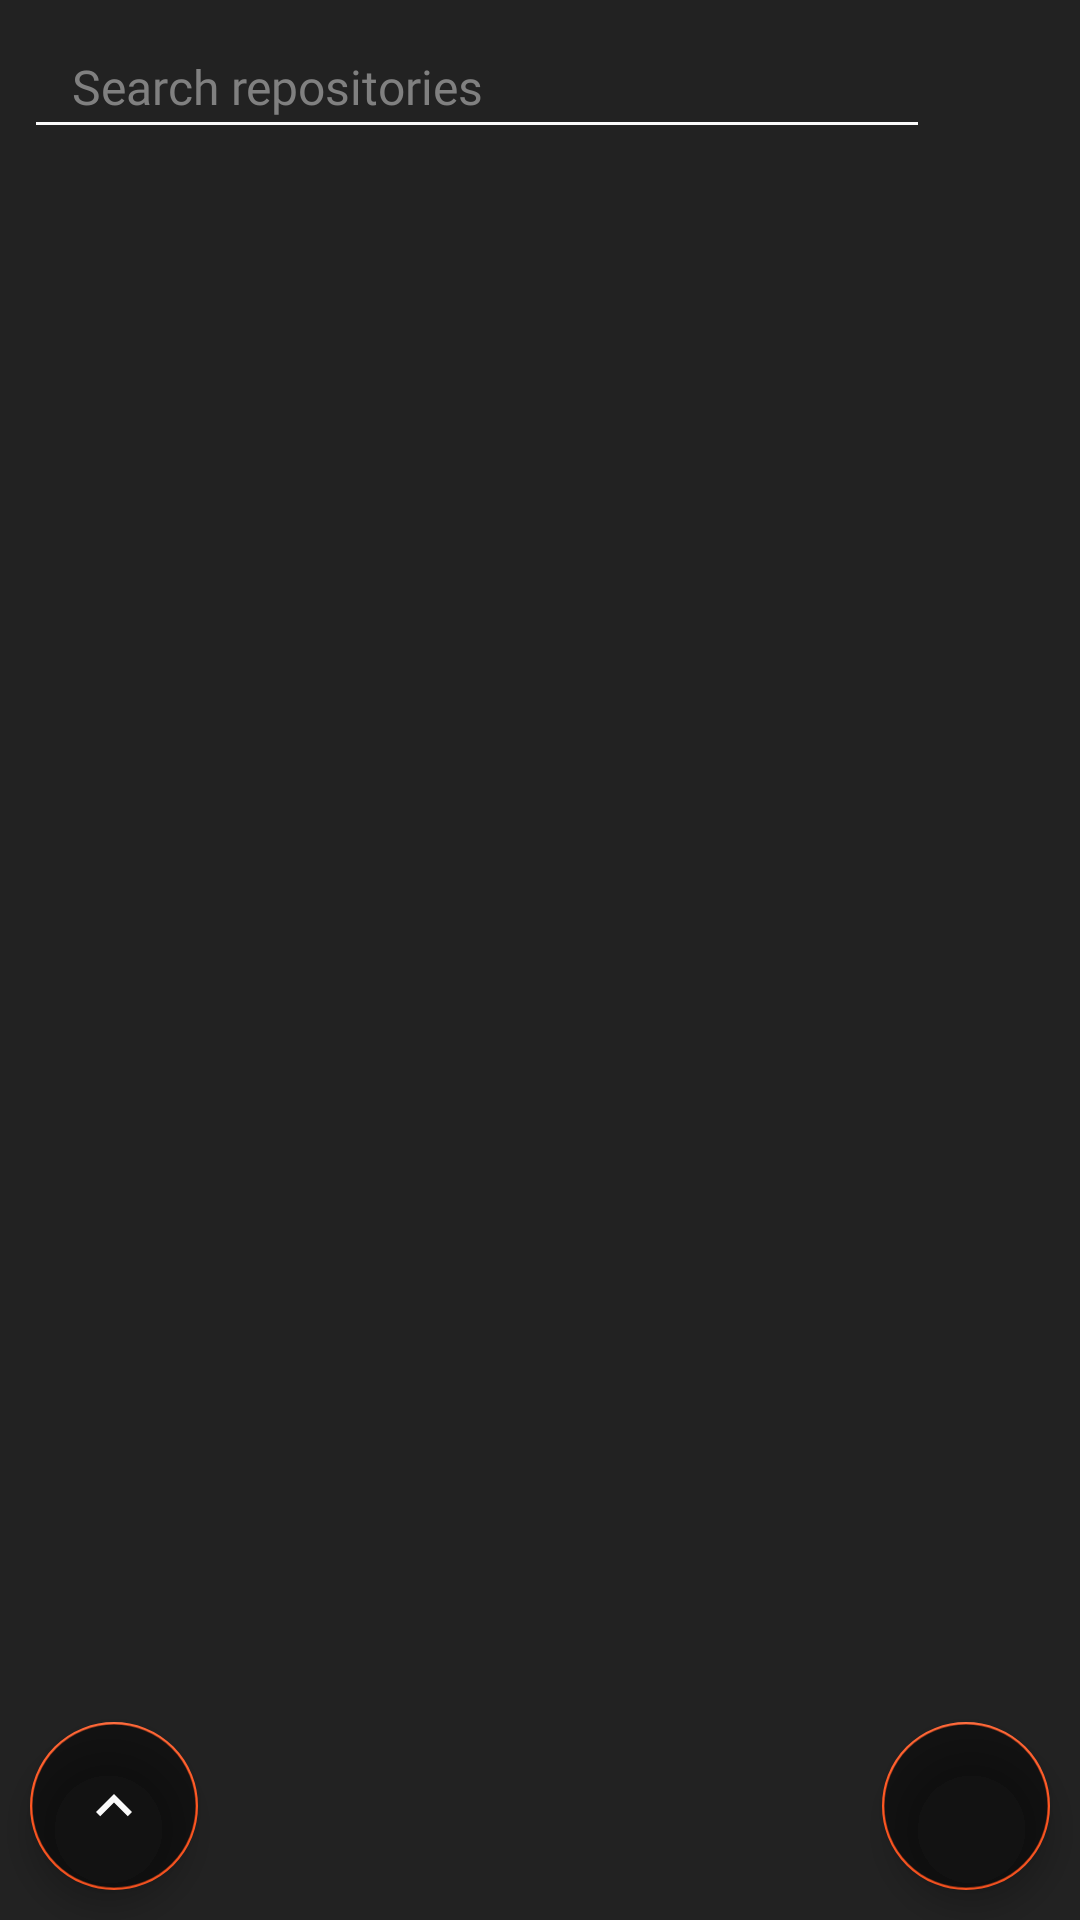

Where icons sit on this 1080 x 1920 app screen, as (x1=x1, y1=y1, x2=x2, y2=y2):
arrow up: (x1=30, y1=1722, x2=198, y2=1890)
